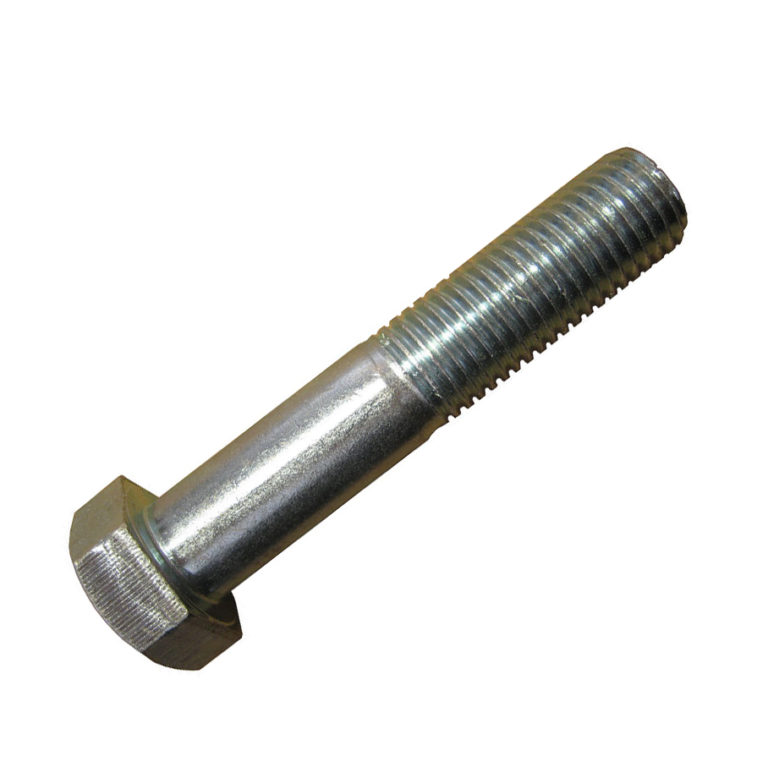screw: (70, 147, 690, 674)
